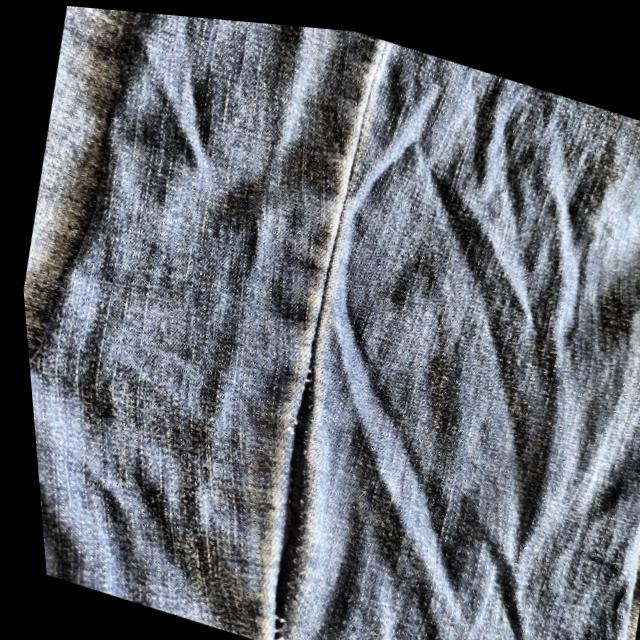seam: (205, 356, 373, 640)
